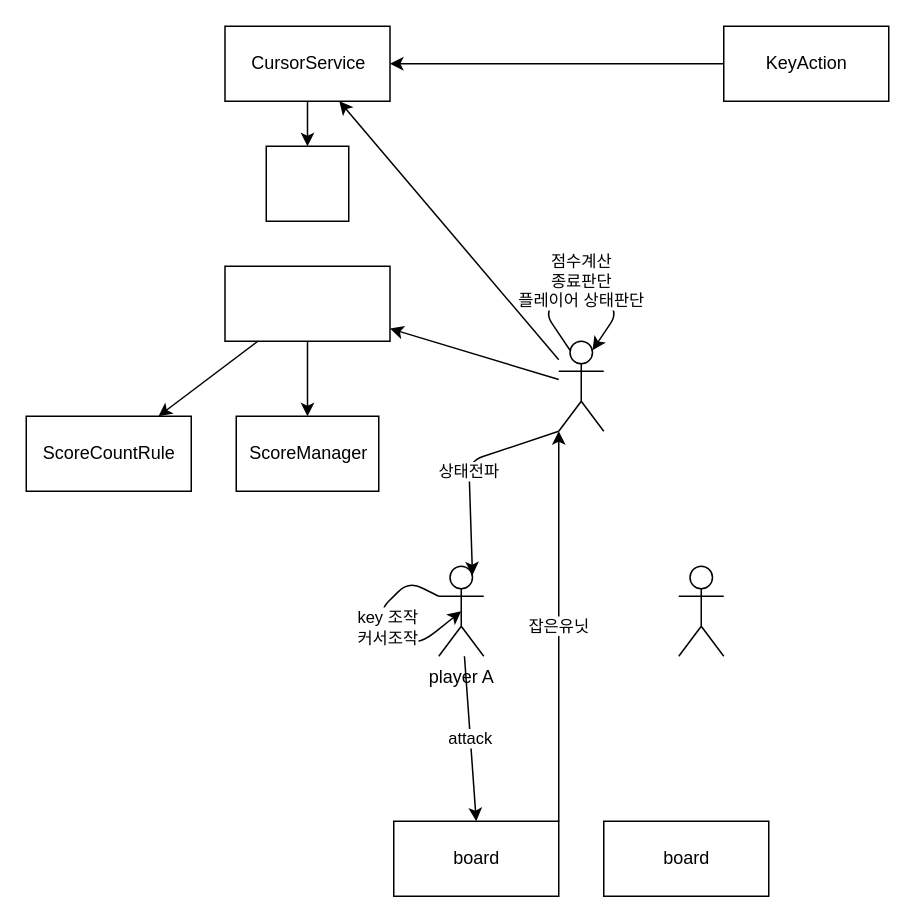
This 915x923 diagram has some shape labels left out. Each missing label, with the box of its shape:
Cursor: (265, 145, 349, 221)
manager: (557, 340, 604, 431)
player B: (677, 565, 724, 656)
ScoreService: (224, 265, 390, 341)
